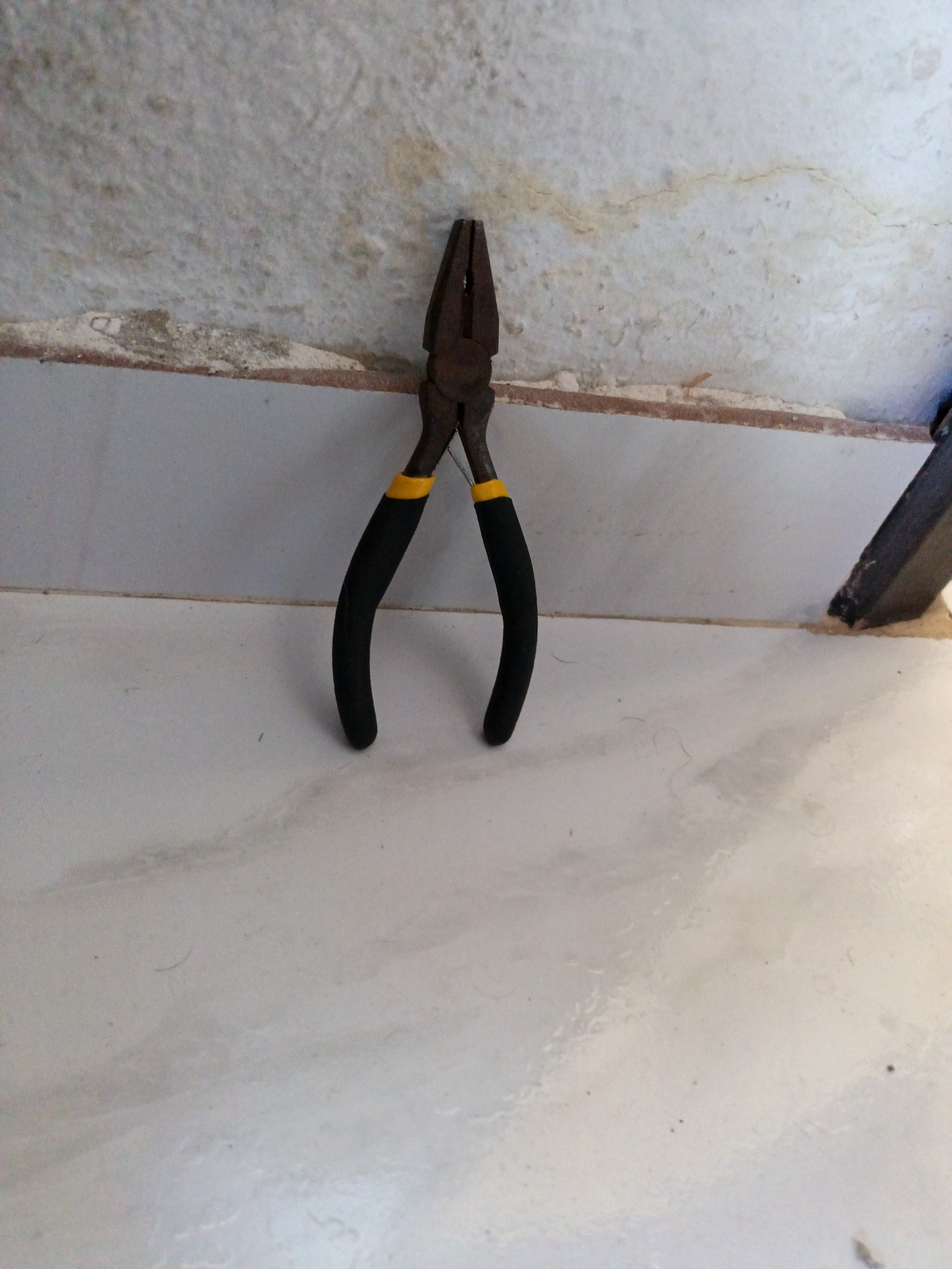Pinzas: (333, 219, 538, 748)
